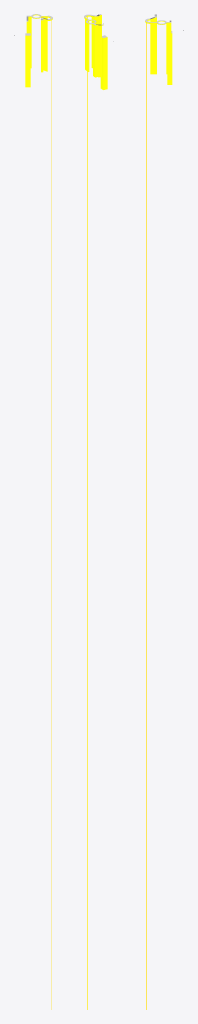
Rendered from burger.fbx.
3 views of the same model, side by side, from view 1: azimuth 90°, elevation 25°; view 2: azimuth 210°, elevation 25°; view 3: azimuth 270°, elevation 25° (orthographic).
Visible parts, largest first — view 1: Block_1x1x1 Instance, Instance.026, Instance.007, Instance.001; view 2: Block_1x1x1 Instance, Instance.026, Instance.024, Instance.015, Instance.022; view 3: Block_1x1x1 Instance, Instance.015, Instance.022, Instance.026.
Part boxes in pixels (x1=…): Block_1x1x1 Instance: x1=51, y1=20, x2=51, y2=1009; Instance.026: x1=25, y1=35, x2=30, y2=87; Instance.007: x1=43, y1=18, x2=47, y2=71; Instance.001: x1=41, y1=20, x2=43, y2=72; Block_1x1x1 Instance: x1=87, y1=16, x2=87, y2=1009; Instance.026: x1=100, y1=37, x2=107, y2=89; Instance.024: x1=97, y1=25, x2=101, y2=77; Instance.015: x1=85, y1=18, x2=89, y2=71; Instance.022: x1=93, y1=24, x2=96, y2=77; Block_1x1x1 Instance: x1=146, y1=23, x2=146, y2=1009; Instance.015: x1=150, y1=22, x2=156, y2=74; Instance.022: x1=167, y1=22, x2=171, y2=74; Instance.026: x1=167, y1=33, x2=172, y2=84.
Size of what is drawn, in the model's own units: 3500 by 191600 by 6800.
